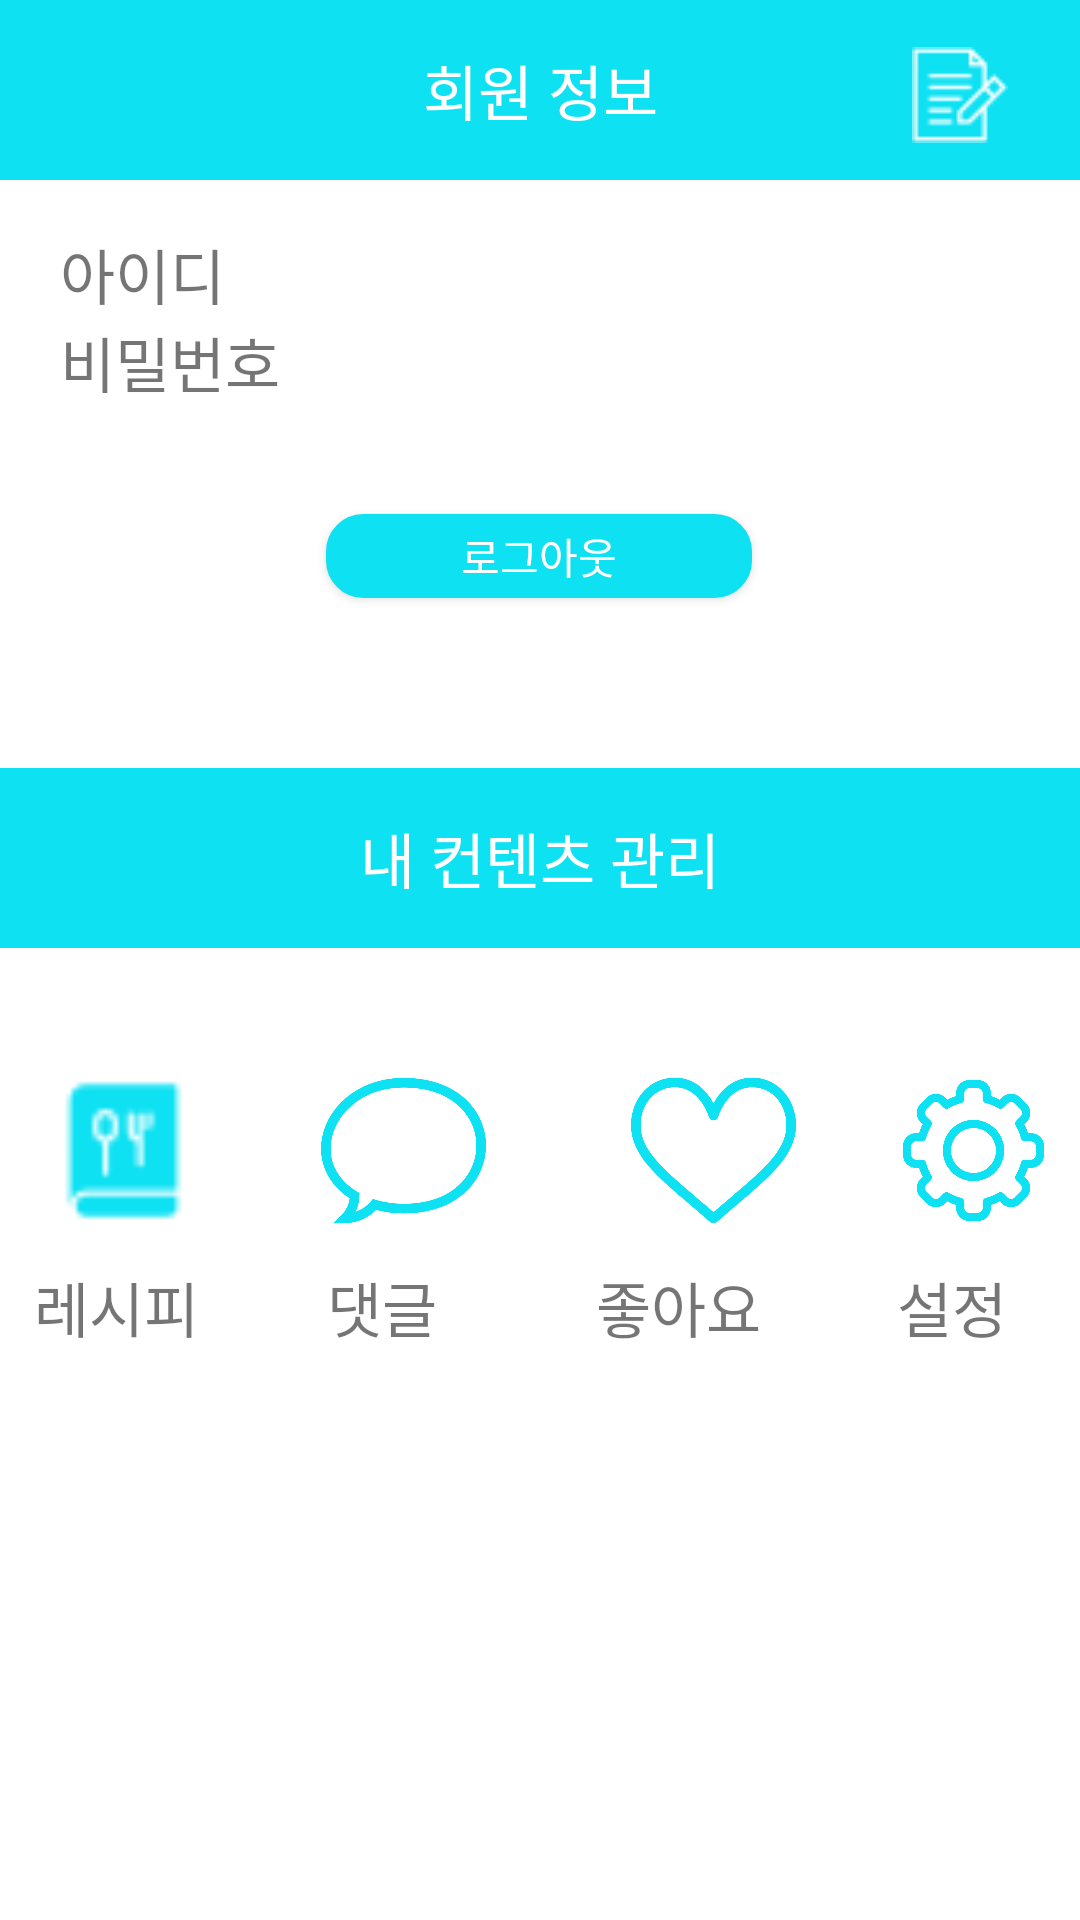

Icon bounding boxes for this 1080w x 1920h phone screenshot, format bbox=(x1, y1, x2, y2):
edit: bbox=(912, 47, 1008, 143)
recipe book: bbox=(66, 1082, 181, 1219)
settings: bbox=(903, 1080, 1044, 1221)
